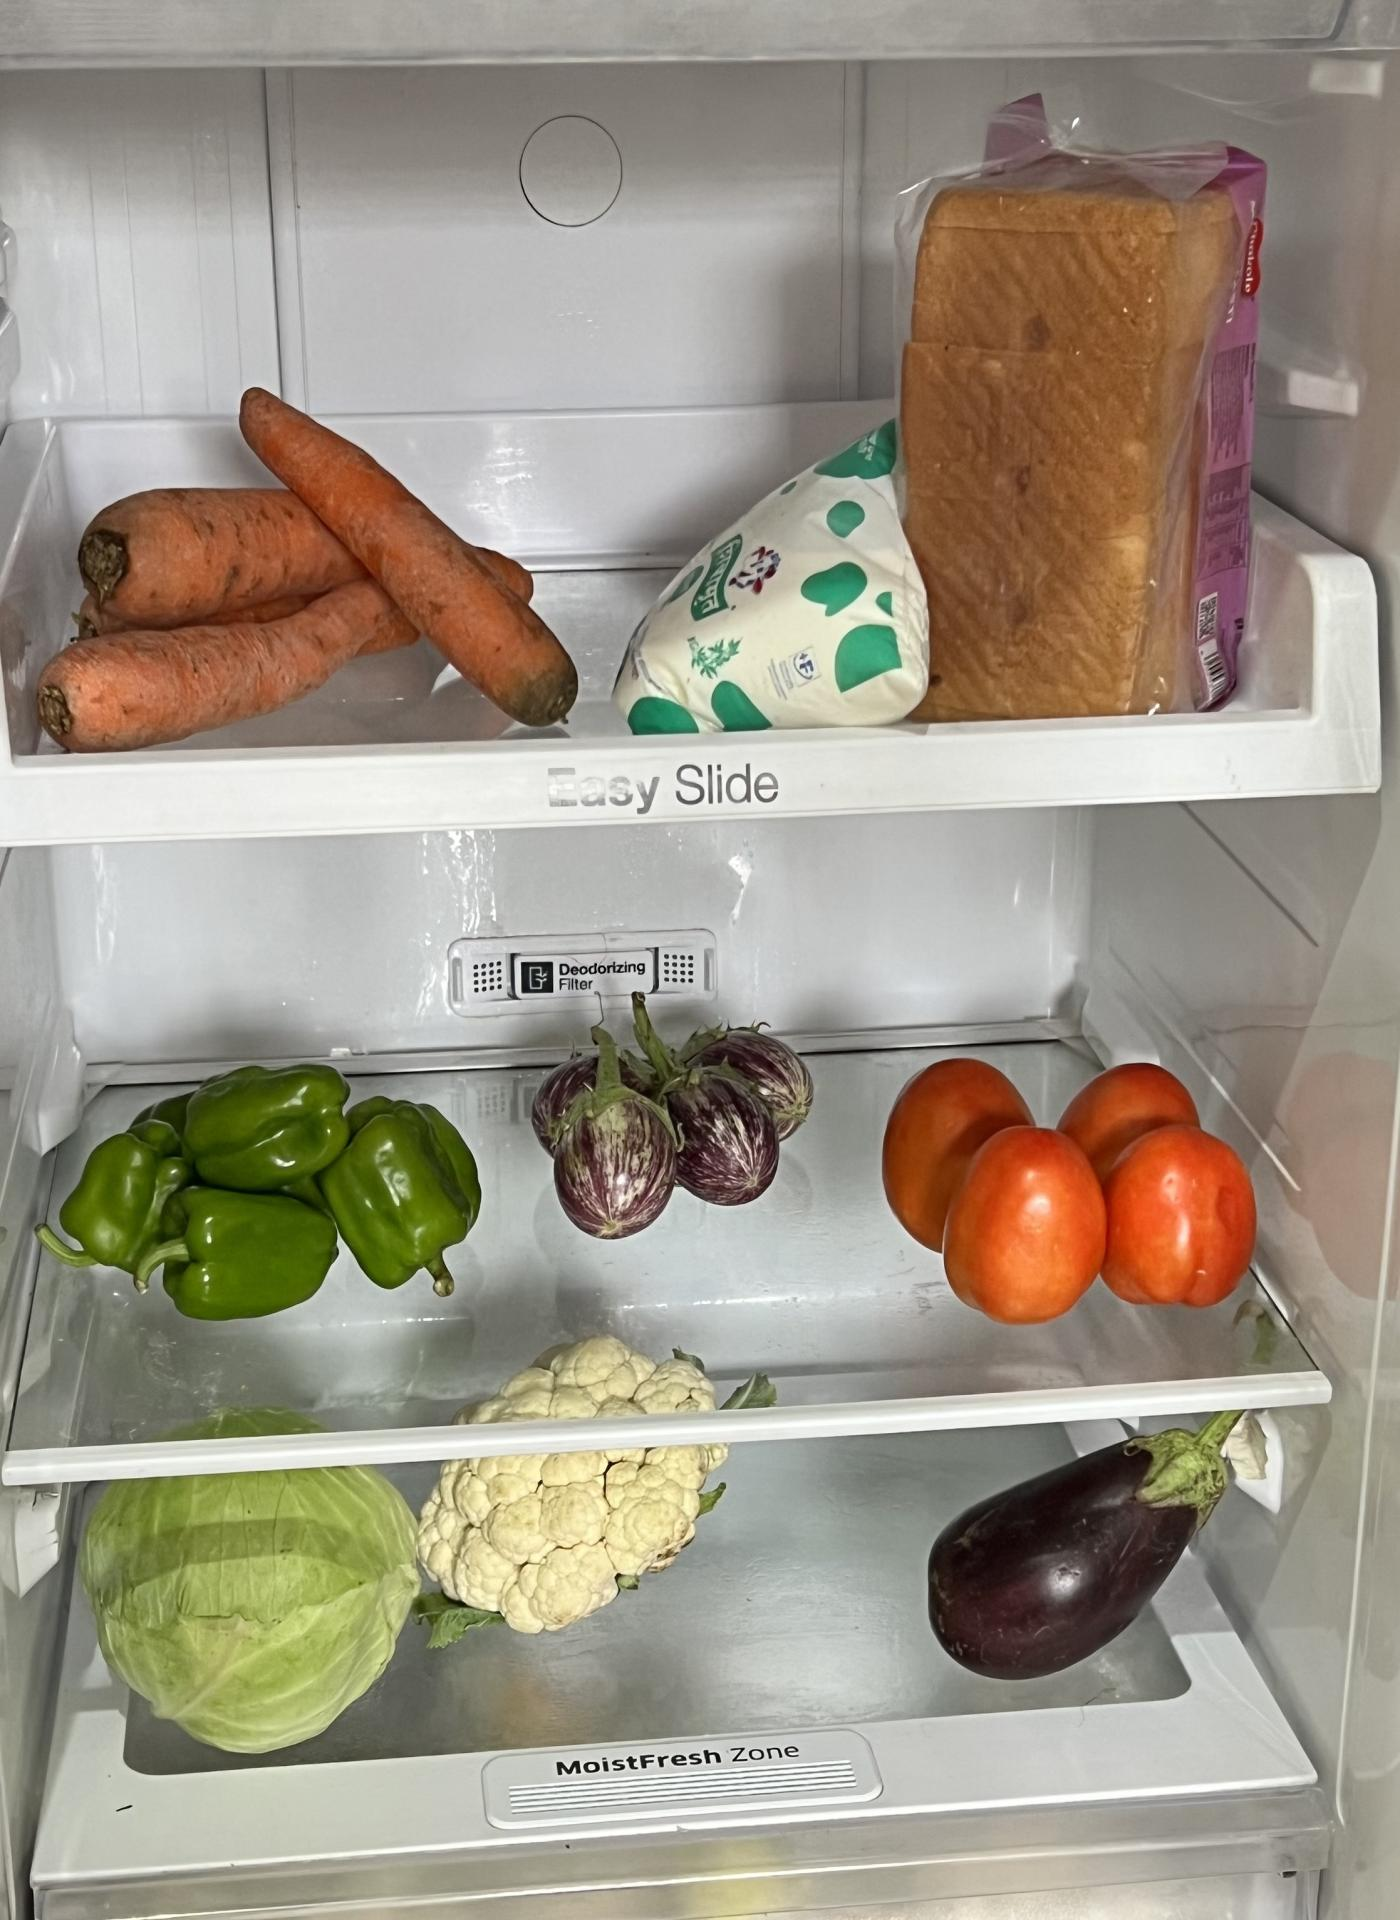bread: (923, 137, 1269, 723)
cabbage: (78, 1476, 419, 1753)
capsicum: (57, 1052, 473, 1318)
carrots: (45, 383, 574, 739)
cauliflower: (437, 1343, 717, 1629)
milk: (599, 422, 924, 727)
tomato: (880, 1046, 1251, 1321)
